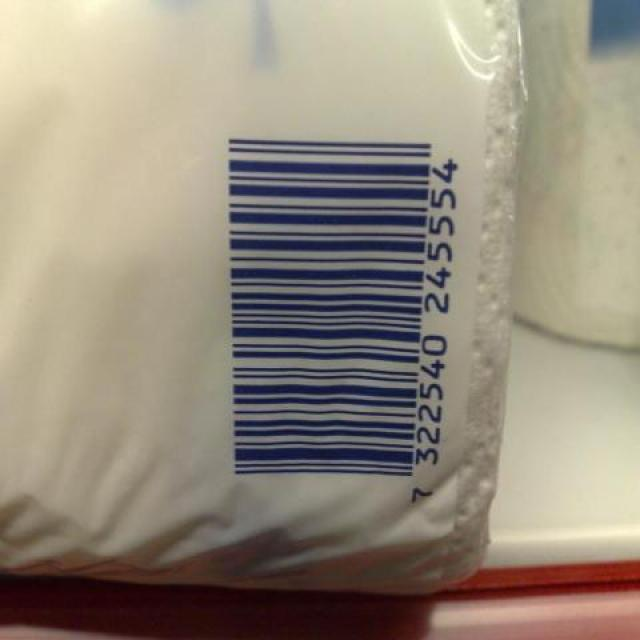Barcode: (216, 125, 459, 512)
